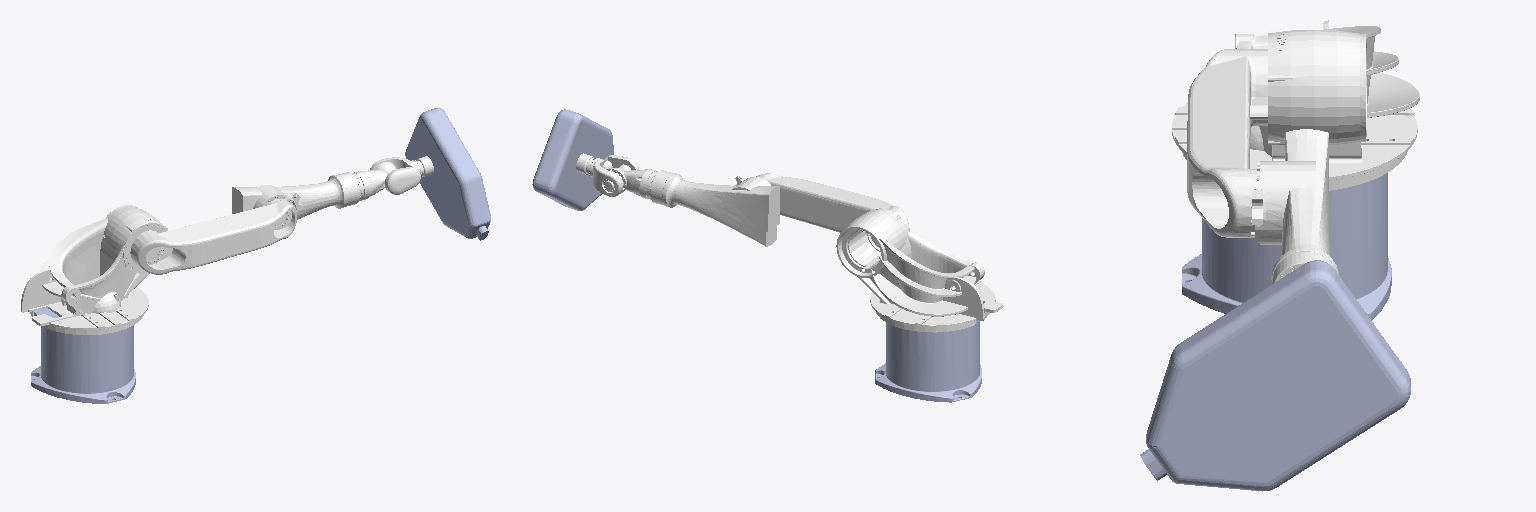
robot.urdf — ck_robot:
<?xml version="1.0" encoding="utf-8"?>
<!-- This URDF was automatically created by SolidWorks to URDF Exporter! Originally created by [author] ([email redacted]) 
     Commit Version: 1.6.0-1-g15f4949  Build Version: 1.6.7594.29634
     For more information, please see http://wiki.ros.org/sw_urdf_exporter -->
<robot
  name="ck_robot">
  <link
    name="base_link">
    <inertial>
      <origin
        xyz="-0.00383300691642972 0.182487946518564 -0.00270653843038907"
        rpy="0 0 0" />
      <mass
        value="60.1875042918917" />
      <inertia
        ixx="1.58272942356572"
        ixy="-1.00442188692039E-08"
        ixz="-6.13419343957741E-09"
        iyy="1.49216689626303"
        iyz="8.19101028357655E-06"
        izz="1.58271804885092" />
    </inertial>
    <visual>
      <origin
        xyz="0 0 0"
        rpy="0 0 0" />
      <geometry>
        <mesh
          filename="package://ck_robot/meshes/base_link.STL" />
      </geometry>
      <material
        name="">
        <color
          rgba="0.792156862745098 0.819607843137255 0.933333333333333 1" />
      </material>
    </visual>
    <collision>
      <origin
        xyz="0 0 0"
        rpy="0 0 0" />
      <geometry>
        <mesh
          filename="package://ck_robot/meshes/base_link.STL" />
      </geometry>
    </collision>
  </link>
  <link
    name="link_1">
    <inertial>
      <origin
        xyz="0.102809130750027 0.172949238194435 -0.0437090806062233"
        rpy="0 0 0" />
      <mass
        value="15.0344818329302" />
      <inertia
        ixx="0.361203035220433"
        ixy="-0.152719504927145"
        ixz="0.00578175214855801"
        iyy="0.646327534948922"
        iyz="0.0275012699513757"
        izz="0.643951501943441" />
    </inertial>
    <visual>
      <origin
        xyz="0 0 0"
        rpy="0 0 0" />
      <geometry>
        <mesh
          filename="package://ck_robot/meshes/link_1.STL" />
      </geometry>
      <material
        name="">
        <color
          rgba="1 1 1 1" />
      </material>
    </visual>
    <collision>
      <origin
        xyz="0 0 0"
        rpy="0 0 0" />
      <geometry>
        <mesh
          filename="package://ck_robot/meshes/link_1.STL" />
      </geometry>
    </collision>
  </link>
  <joint
    name="joint_1"
    type="continuous">
    <origin
      xyz="-0.00383300568916015 0.00270725046410668 0.340050258271999"
      rpy="1.5707963267949 0 -0.00605138749237428" />
    <parent
      link="base_link" />
    <child
      link="link_1" />
    <axis
      xyz="0 1 0" />
  </joint>
  <link
    name="link_2">
    <inertial>
      <origin
        xyz="3.4554120351693E-06 0.3026629257783 0.0958344910372751"
        rpy="0 0 0" />
      <mass
        value="13.7581112963571" />
      <inertia
        ixx="0.579000083558385"
        ixy="-8.26083819687151E-07"
        ixz="-2.5290843248637E-07"
        iyy="0.0576579722752854"
        iyz="-0.0273515955404406"
        izz="0.579286589232592" />
    </inertial>
    <visual>
      <origin
        xyz="0 0 0"
        rpy="0 0 0" />
      <geometry>
        <mesh
          filename="package://ck_robot/meshes/link_2.STL" />
      </geometry>
      <material
        name="">
        <color
          rgba="1 1 1 1" />
      </material>
    </visual>
    <collision>
      <origin
        xyz="0 0 0"
        rpy="0 0 0" />
      <geometry>
        <mesh
          filename="package://ck_robot/meshes/link_2.STL" />
      </geometry>
    </collision>
  </link>
  <joint
    name="joint_2"
    type="continuous">
    <origin
      xyz="0.285 0.279 0.0600067744860645"
      rpy="0 0 -1.53895939549721" />
    <parent
      link="link_1" />
    <child
      link="link_2" />
    <axis
      xyz="0 0 1" />
  </joint>
  <link
    name="link_3">
    <inertial>
      <origin
        xyz="-0.106987961252075 -0.0174869705654485 0.0776588400060666"
        rpy="0 0 0" />
      <mass
        value="13.0275184665504" />
      <inertia
        ixx="0.0627132545302885"
        ixy="-0.00841962883291324"
        ixz="0.0203139373595454"
        iyy="0.445601340238936"
        iyz="0.00436397624848644"
        izz="0.457027238244116" />
    </inertial>
    <visual>
      <origin
        xyz="0 0 0"
        rpy="0 0 0" />
      <geometry>
        <mesh
          filename="package://ck_robot/meshes/link_3.STL" />
      </geometry>
      <material
        name="">
        <color
          rgba="1 1 1 1" />
      </material>
    </visual>
    <collision>
      <origin
        xyz="0 0 0"
        rpy="0 0 0" />
      <geometry>
        <mesh
          filename="package://ck_robot/meshes/link_3.STL" />
      </geometry>
    </collision>
  </link>
  <joint
    name="joint_3"
    type="continuous">
    <origin
      xyz="0 0.680000000000004 0"
      rpy="3.14159265358979 0 -1.5859187836385" />
    <parent
      link="link_2" />
    <child
      link="link_3" />
    <axis
      xyz="0 0 1" />
  </joint>
  <link
    name="link_4">
    <inertial>
      <origin
        xyz="0.00674054248118688 0.109200955370313 0.000146060801288761"
        rpy="0 0 0" />
      <mass
        value="2.38079036358208" />
      <inertia
        ixx="0.0138352925270043"
        ixy="-0.00127243699344472"
        ixz="-7.82507607581127E-06"
        iyy="0.00431377534403387"
        iyz="1.88075396199067E-06"
        izz="0.0140397552963143" />
    </inertial>
    <visual>
      <origin
        xyz="0 0 0"
        rpy="0 0 0" />
      <geometry>
        <mesh
          filename="package://ck_robot/meshes/link_4.STL" />
      </geometry>
      <material
        name="">
        <color
          rgba="1 1 1 1" />
      </material>
    </visual>
    <collision>
      <origin
        xyz="0 0 0"
        rpy="0 0 0" />
      <geometry>
        <mesh
          filename="package://ck_robot/meshes/link_4.STL" />
      </geometry>
    </collision>
  </link>
  <joint
    name="joint_4"
    type="continuous">
    <origin
      xyz="-0.473242791686348 -0.0224999999999999 0.0930067744860649"
      rpy="3.14159265358978 -1.48381066723595 -1.57079632679489" />
    <parent
      link="link_3" />
    <child
      link="link_4" />
    <axis
      xyz="0 1 0" />
  </joint>
  <link
    name="link_5">
    <inertial>
      <origin
        xyz="-0.00237320370358729 4.02274061028773E-06 0.0564415415907327"
        rpy="0 0 0" />
      <mass
        value="1.79281371541231" />
      <inertia
        ixx="0.00559744708984224"
        ixy="-1.28486996486035E-07"
        ixz="0.000253091080705458"
        iyy="0.0113978041121914"
        iyz="-4.93958641329883E-07"
        izz="0.00867632894913552" />
    </inertial>
    <visual>
      <origin
        xyz="0 0 0"
        rpy="0 0 0" />
      <geometry>
        <mesh
          filename="package://ck_robot/meshes/link_5.STL" />
      </geometry>
      <material
        name="">
        <color
          rgba="1 1 1 1" />
      </material>
    </visual>
    <collision>
      <origin
        xyz="0 0 0"
        rpy="0 0 0" />
      <geometry>
        <mesh
          filename="package://ck_robot/meshes/link_5.STL" />
      </geometry>
    </collision>
  </link>
  <joint
    name="joint_5"
    type="continuous">
    <origin
      xyz="0 0.193257208313652 0"
      rpy="-1.64879993389354 0 0" />
    <parent
      link="link_4" />
    <child
      link="link_5" />
    <axis
      xyz="1 0 0" />
  </joint>
  <link
    name="link_6">
    <inertial>
      <origin
        xyz="8.57589364711142E-06 -0.0809075068589164 0.163038732849474"
        rpy="0 0 0" />
      <mass
        value="24.8877693978715" />
      <inertia
        ixx="0.638943130648103"
        ixy="7.13591888199666E-05"
        ixz="-4.02412291479427E-07"
        iyy="0.314906336978164"
        iyz="0.00124981910517799"
        izz="0.894637019266292" />
    </inertial>
    <visual>
      <origin
        xyz="0 0 0"
        rpy="0 0 0" />
      <geometry>
        <mesh
          filename="package://ck_robot/meshes/link_6.STL" />
      </geometry>
      <material
        name="">
        <color
          rgba="0.792156862745098 0.819607843137255 0.933333333333333 1" />
      </material>
    </visual>
    <collision>
      <origin
        xyz="0 0 0"
        rpy="0 0 0" />
      <geometry>
        <mesh
          filename="package://ck_robot/meshes/link_6.STL" />
      </geometry>
    </collision>
  </link>
  <joint
    name="joint_6"
    type="continuous">
    <origin
      xyz="-0.00299999999999894 0 0.102405955386691"
      rpy="0 0 -0.889895608487581" />
    <parent
      link="link_5" />
    <child
      link="link_6" />
    <axis
      xyz="0 0 1" />
  </joint>
</robot>

--- Facts derived from the render (not from the file) ---
The picture shows the robot from 3 angles, left to right: view 1: azimuth 30°, elevation 25°; view 2: azimuth 150°, elevation 25°; view 3: azimuth 270°, elevation 25°; orthographic projection.
Model ck_robot with 7 links and 6 joints (6 continuous), rooted at base_link, posed all joints at 0.
Links seen in each view (by area): view 1: link_1, base_link, link_2, link_6, link_3, link_5, link_4; view 2: link_1, base_link, link_3, link_6, link_2, link_5, link_4; view 3: link_6, link_1, base_link, link_2, link_3.
Link boxes in pixels (x1,y1,x2,y2): link_1: (21,205,167,334); base_link: (31,305,135,403); link_2: (130,200,296,274); link_6: (405,108,490,240); link_3: (232,172,360,219); link_5: (370,156,433,194); link_4: (353,162,396,200); link_1: (836,208,1003,332); base_link: (875,320,981,402); link_3: (649,170,779,246); link_6: (532,109,613,210); link_2: (756,173,909,247); link_5: (576,153,638,196); link_4: (607,165,657,199); link_6: (1140,260,1410,491); link_1: (1172,20,1419,190); base_link: (1182,173,1391,320); link_2: (1187,49,1267,237); link_3: (1250,129,1338,283).
Size in the robot's own frame: 2.29 by 0.648 by 0.9254 metres.
Meshes: 7 distinct files referenced, 7 mesh visuals loaded (7 binary STL).